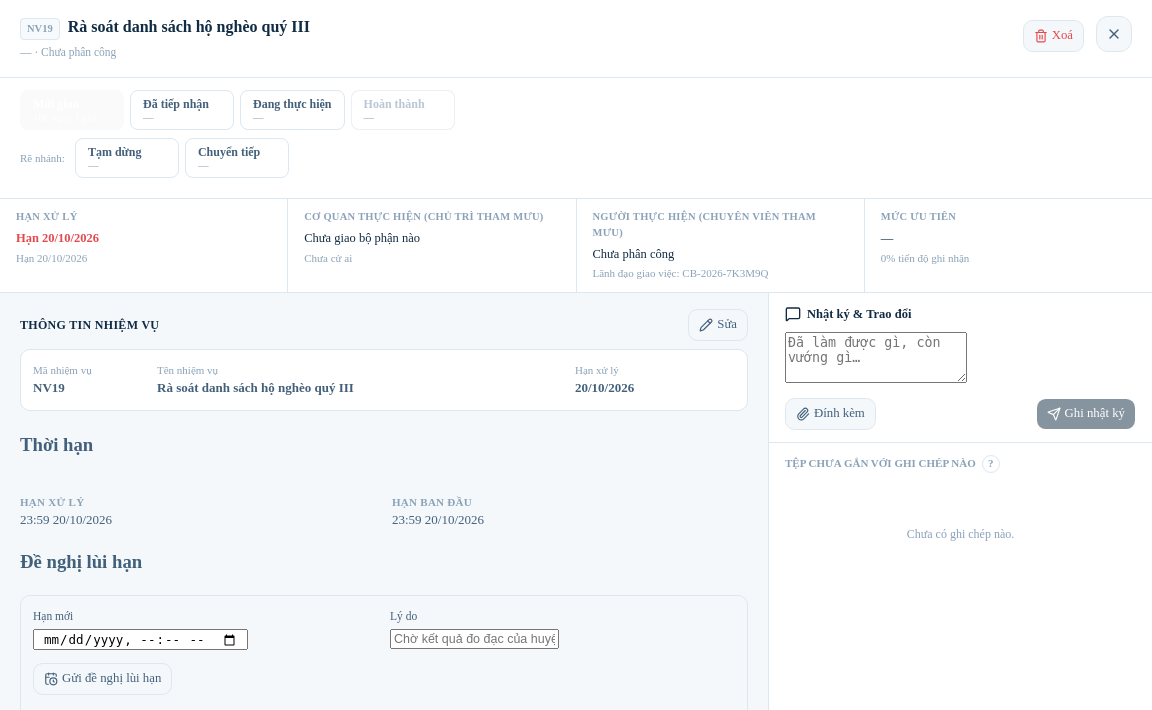
Test: delete — the header's button behind `task.delete`, a confirm with NO reason box (bug sheet web-admin-141026) › ALLOWED: the header button opens the confirm; no reason box; `Xoá` sends no reason; a refusal shows in the dialog
This screenshot has width=1152, height=710.
Step 1. Click the button "Xoá" → (1053, 36), box [1023,20,1084,52]
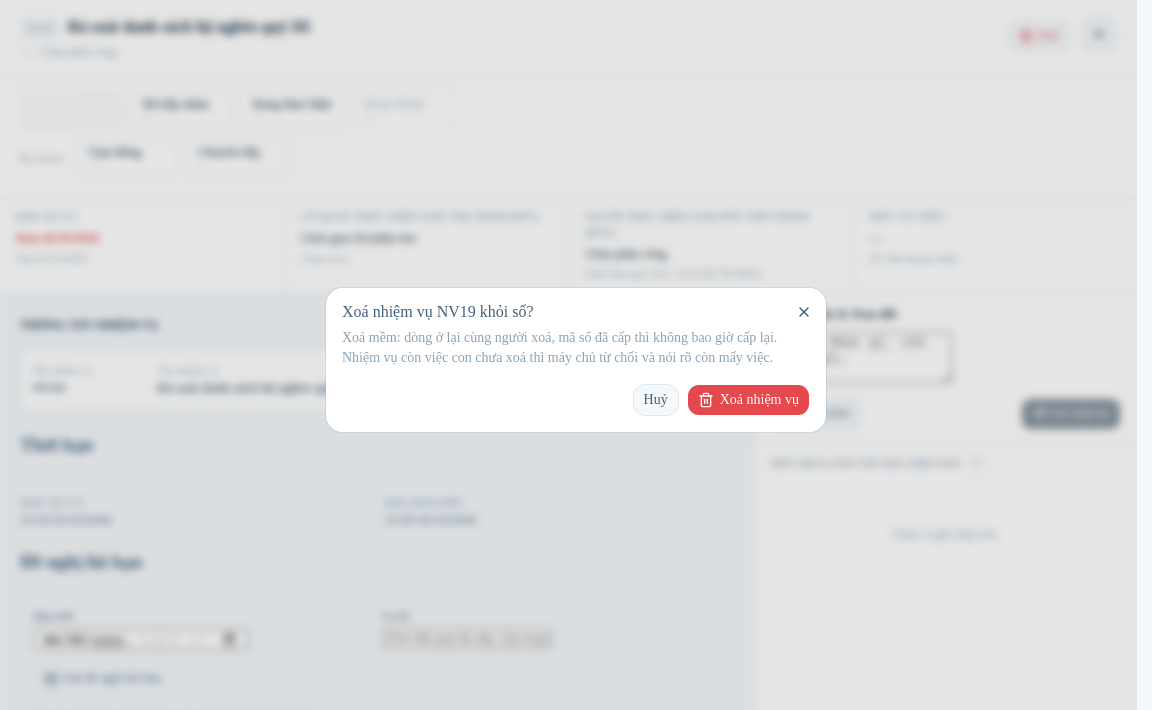
Expected: the dialog is shown, [326,288,826,432]
Expected: the heading "Xoá nhiệm vụ NV19 khỏi sổ?" is shown, [342,303,534,320]
Expected: the submit button is enabled
Step 2. Click the submit button → (748, 400), box [687,384,810,416]
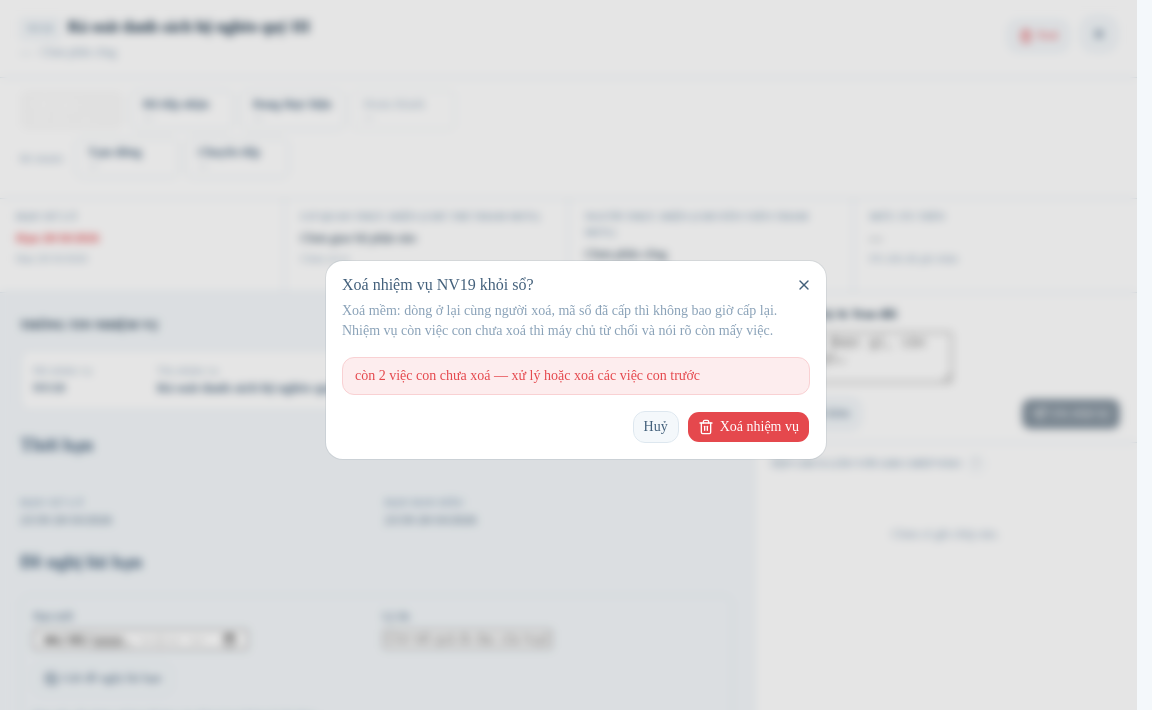
Expected: the message "còn 2 việc con chưa xoá — xử lý hoặc xoá các việc con trước" is shown, [342,357,810,395]
